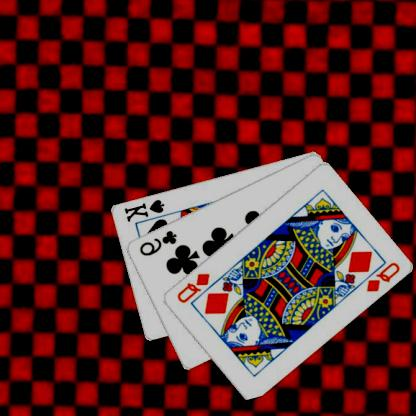9C: (138, 227, 180, 257)
KS: (123, 196, 167, 223)
QD: (365, 259, 403, 294), (176, 270, 213, 304)
